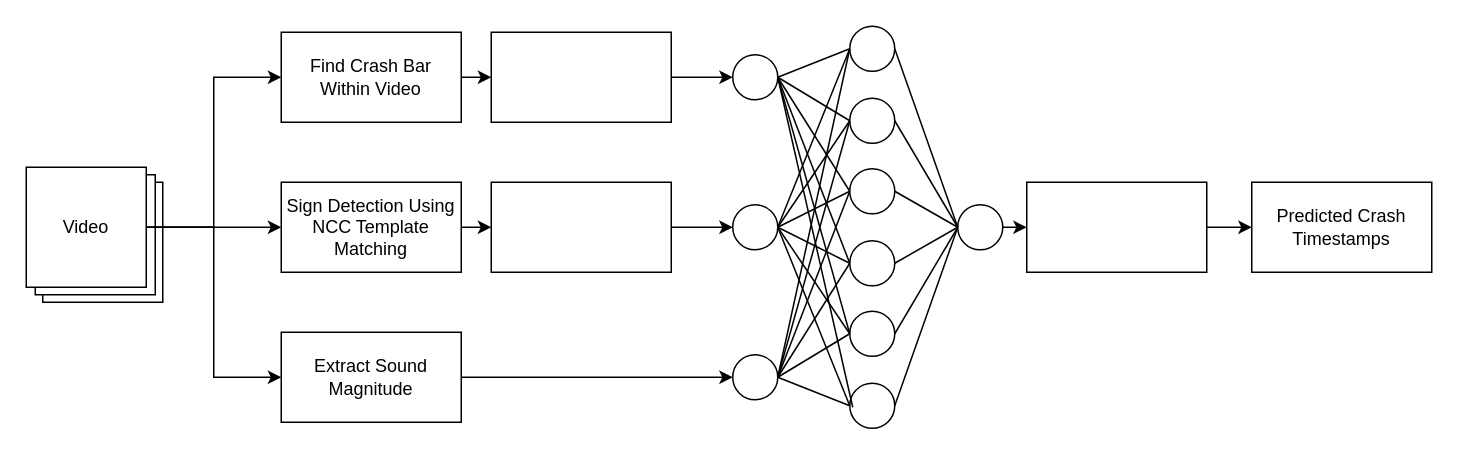
Image size: 1458x455. Some labels were removed from this diagram. Here are the shapes that lost their labels. From the top down, the centre of each, then its label:
point (580, 76): Compute SSIM
point (580, 226): Variance of Moving Window
point (1116, 226): Crash Probabilities for Each Frame
